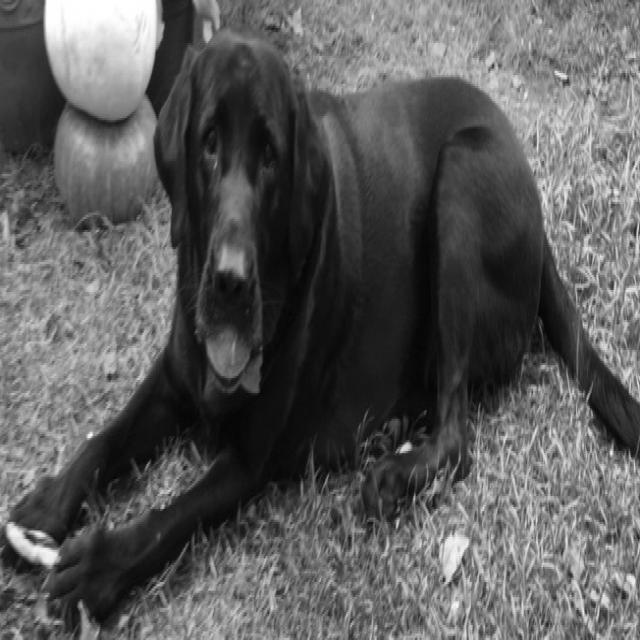laying down: (0, 24, 640, 634)
